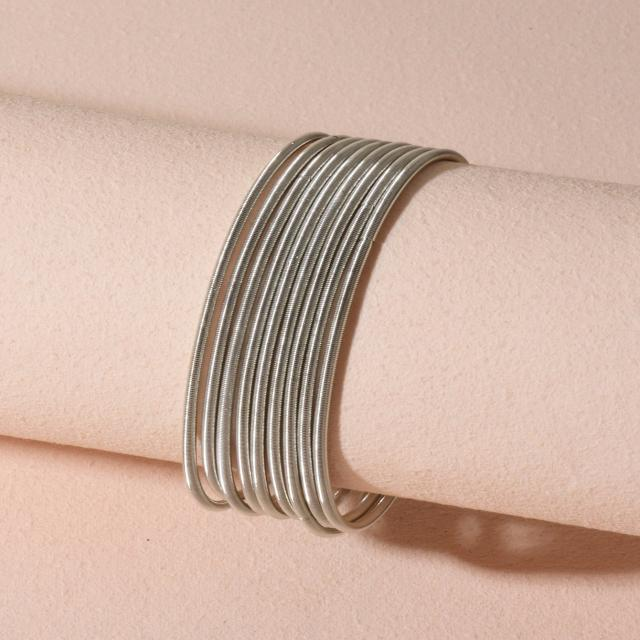bracelet: (150, 86, 501, 616)
